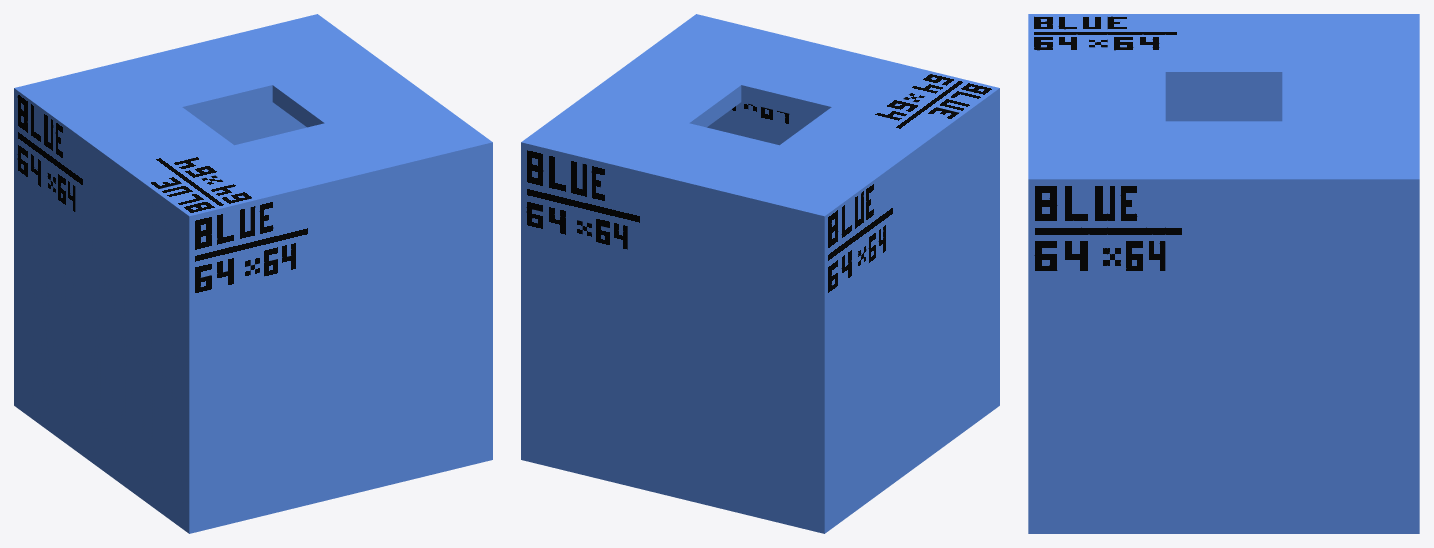
File: room.fbx
The picture shows the model from 3 angles, left to right: view 1: azimuth 30°, elevation 25°; view 2: azimuth 150°, elevation 25°; view 3: azimuth 270°, elevation 25°; orthographic projection. The views are drawn at different scales.
Visible parts, largest first — view 1: Cube.001; view 2: Cube.001; view 3: Cube.001.
Boxes of the visible parts, left/top/right/bottom form: Cube.001: left=14, top=14, right=492, bottom=533; Cube.001: left=521, top=14, right=999, bottom=533; Cube.001: left=1028, top=14, right=1419, bottom=533.
Size of the model in its own units: 224 by 224 by 224.
